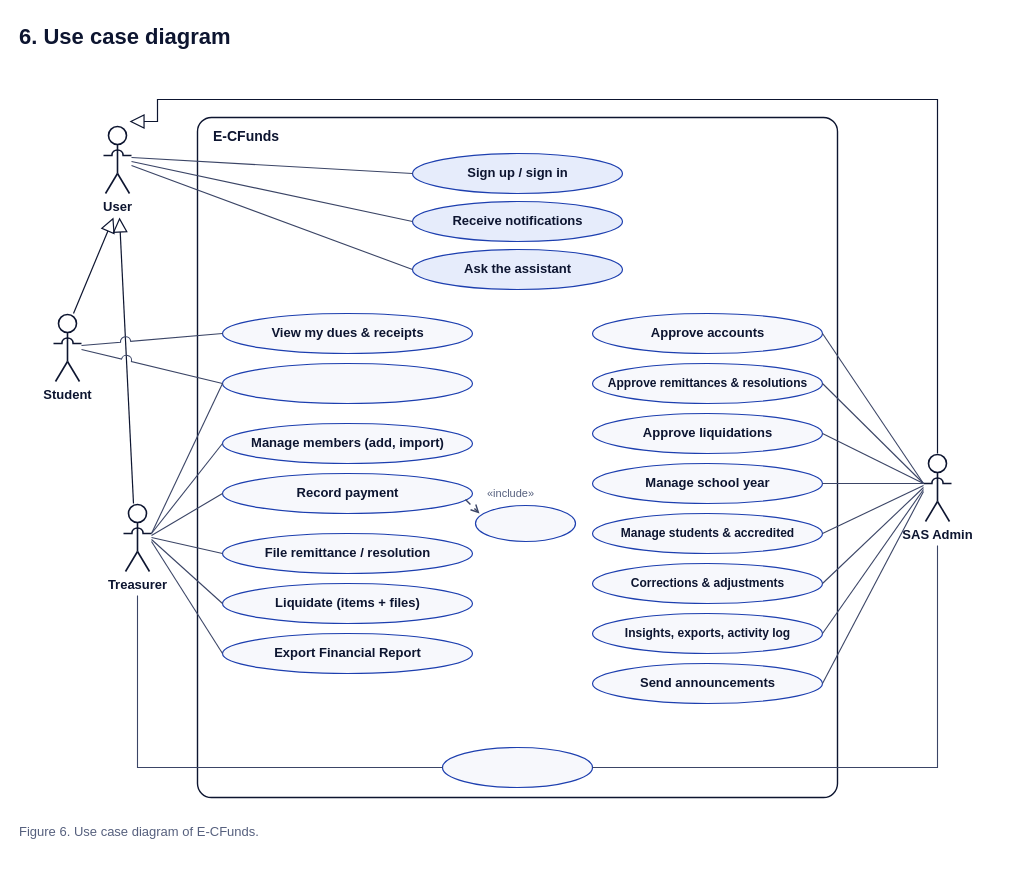
Image size: 1034x884. Some labels were removed from this diagram. The shapes that lost their labels are listed below. From the top down, each one's box as (x1, y1, x2, y2) in pixels, then its label:
(221, 362, 473, 404): View Insights (every org)
(474, 504, 576, 542): Issue receipt
(441, 746, 593, 788): Exchange messages
